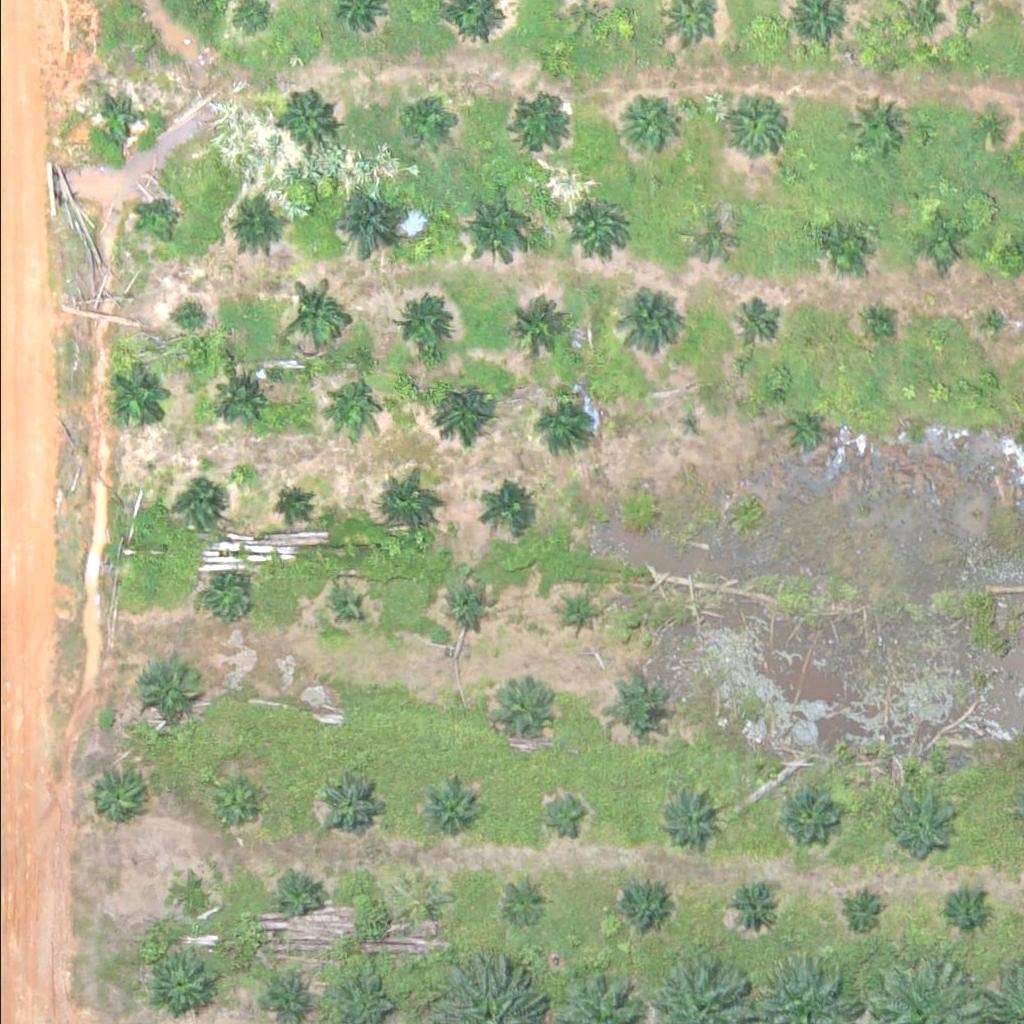Kelapa_Sawit: (374, 286, 450, 361), (455, 189, 531, 264), (602, 282, 678, 357), (500, 290, 576, 365), (132, 657, 208, 732), (272, 278, 348, 353), (324, 187, 399, 262), (886, 789, 961, 864), (143, 946, 218, 1021), (494, 687, 557, 750), (610, 676, 673, 739), (538, 391, 601, 454), (108, 368, 171, 431), (218, 195, 281, 258), (213, 367, 276, 430), (270, 87, 333, 150), (771, 785, 834, 848), (422, 774, 485, 837), (317, 774, 380, 837), (85, 767, 148, 830), (203, 767, 266, 830), (721, 875, 784, 938), (376, 477, 439, 539), (476, 476, 539, 538), (506, 94, 569, 156), (431, 380, 493, 443), (564, 197, 627, 259), (842, 94, 905, 156), (809, 214, 872, 276), (722, 92, 785, 154), (611, 96, 674, 158), (660, 786, 723, 848), (609, 872, 672, 934), (908, 213, 971, 275), (504, 878, 555, 928), (407, 877, 458, 927), (278, 867, 329, 917), (542, 793, 593, 843), (132, 200, 183, 250), (90, 94, 141, 144), (942, 883, 993, 933), (728, 295, 779, 345), (334, 376, 384, 426), (401, 95, 451, 145), (171, 477, 221, 527), (204, 577, 254, 627), (163, 871, 213, 921), (445, 579, 495, 629), (684, 210, 734, 260), (835, 887, 885, 937), (781, 409, 831, 459), (559, 596, 597, 634), (321, 586, 359, 624), (167, 295, 205, 333), (619, 493, 657, 531), (971, 307, 1009, 345), (966, 110, 1004, 148), (270, 481, 308, 518), (867, 309, 893, 334), (678, 413, 703, 438)
